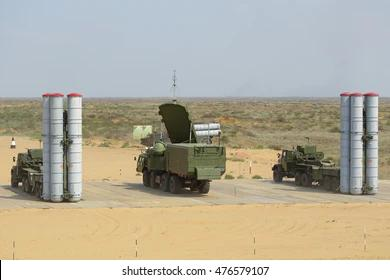MIL_SAM_TEL: (269, 92, 382, 194), (10, 90, 86, 204)
